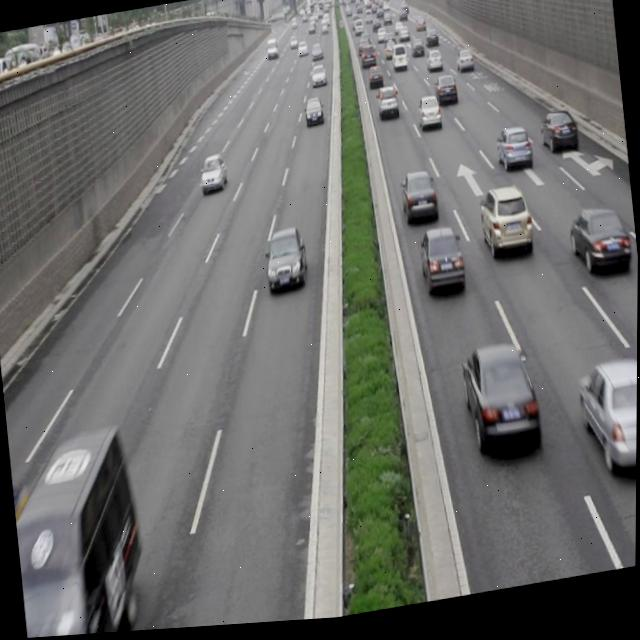car: (459, 343, 545, 473), (575, 359, 638, 482), (567, 209, 631, 291), (477, 187, 532, 271), (417, 228, 464, 304), (262, 229, 310, 298), (398, 169, 437, 232), (536, 116, 577, 166), (493, 130, 530, 178), (199, 155, 225, 198), (374, 86, 399, 125), (415, 98, 440, 136), (433, 80, 457, 110), (302, 98, 324, 129)
truck: (7, 419, 154, 639)
